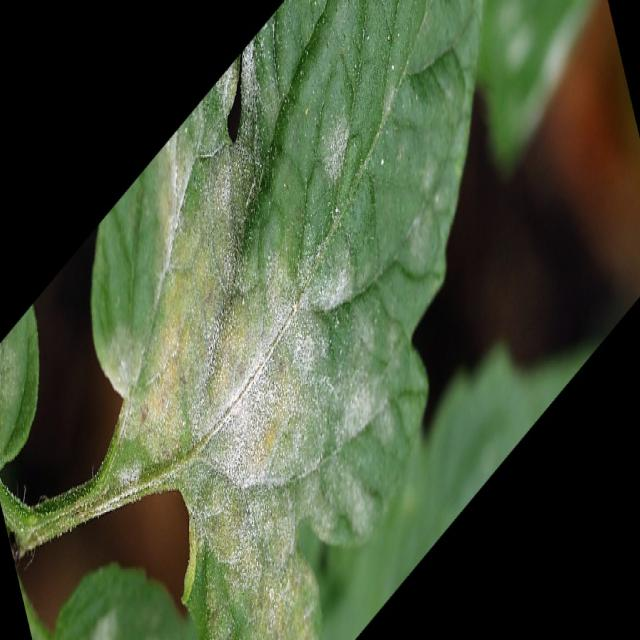Powdery Mildew: (156, 172, 332, 640), (316, 108, 350, 185)
